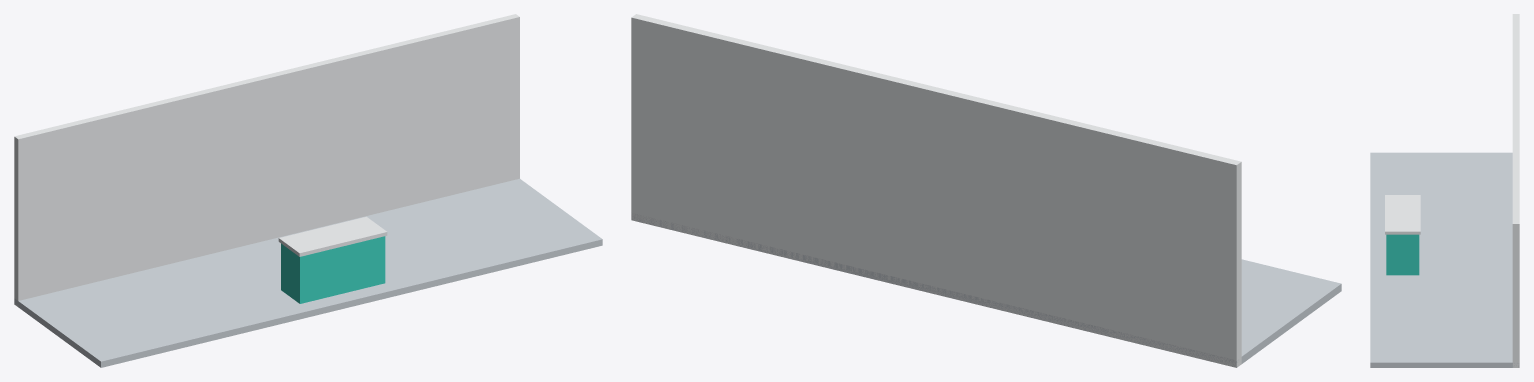
3 views of the same model, side by side, from view 1: azimuth 30°, elevation 25°; view 2: azimuth 150°, elevation 25°; view 3: azimuth 270°, elevation 25° (orthographic). The views are drawn at different scales.
Parts seen in each view (by area): view 1: Exhibition Booth Concept; view 2: Exhibition Booth Concept; view 3: Exhibition Booth Concept.
Boxes of the visible parts, <box> form: Exhibition Booth Concept: <box>14,14,602,367</box>; Exhibition Booth Concept: <box>631,14,1341,367</box>; Exhibition Booth Concept: <box>1370,14,1519,367</box>.
Size of the model in its own units: 10 by 3.2 by 3.
